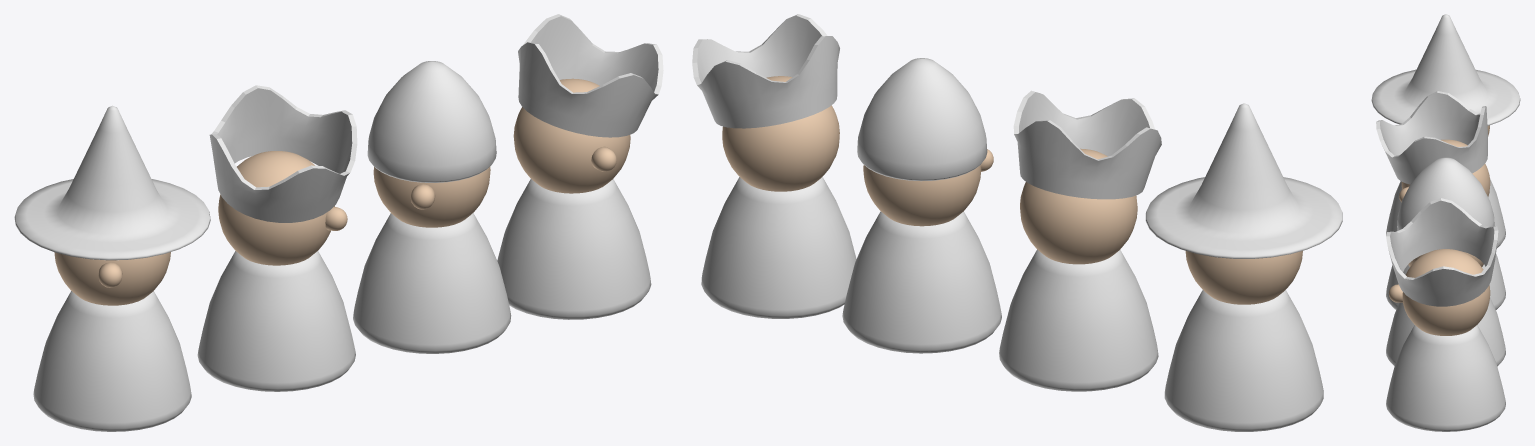
File: bonecos.fbx
3 renders of one model, left to right at view 1: azimuth 30°, elevation 25°; view 2: azimuth 150°, elevation 25°; view 3: azimuth 270°, elevation 25°, orthographic. The views are drawn at different scales.
Parts seen in each view (by area): view 1: azul, rosa, vermelho, cinza; view 2: azul, rosa, vermelho, cinza; view 3: vermelho, azul, rosa, cinza.
Boxes of the visible parts, x1,y1,x2,y2 form: azul: (14, 105, 210, 431); rosa: (197, 85, 357, 391); vermelho: (497, 14, 663, 319); cinza: (353, 61, 511, 353); azul: (1145, 103, 1342, 431); rosa: (999, 90, 1161, 391); vermelho: (692, 14, 856, 318); cinza: (842, 58, 1001, 353); vermelho: (1386, 198, 1505, 431); azul: (1371, 14, 1520, 248); rosa: (1376, 91, 1505, 309); cinza: (1386, 157, 1505, 366).
Size of the model in its own units: 4.21 by 1.9 by 1.14.
